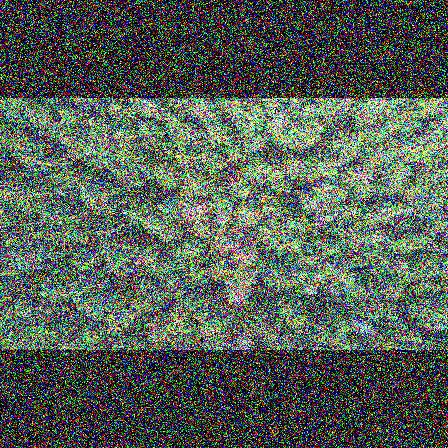Dead: (350, 314, 376, 337), (226, 284, 248, 308), (311, 209, 337, 227), (133, 250, 151, 266), (323, 282, 340, 296), (165, 274, 179, 288)
